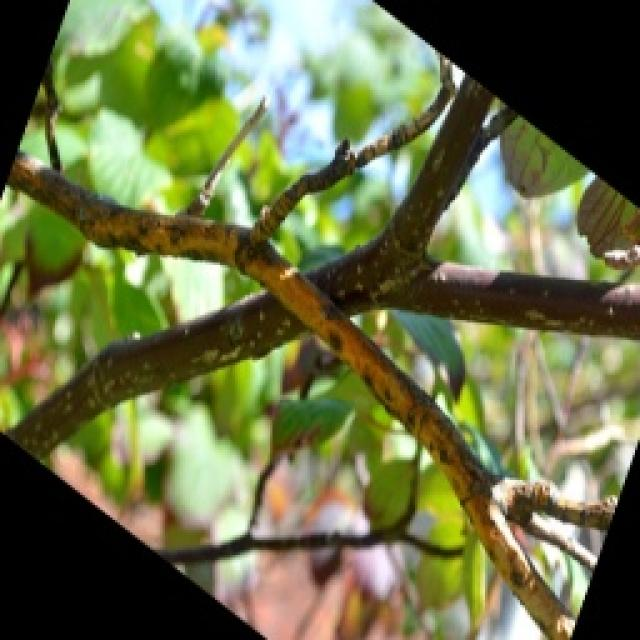Golden_canker: (2, 97, 639, 640)
